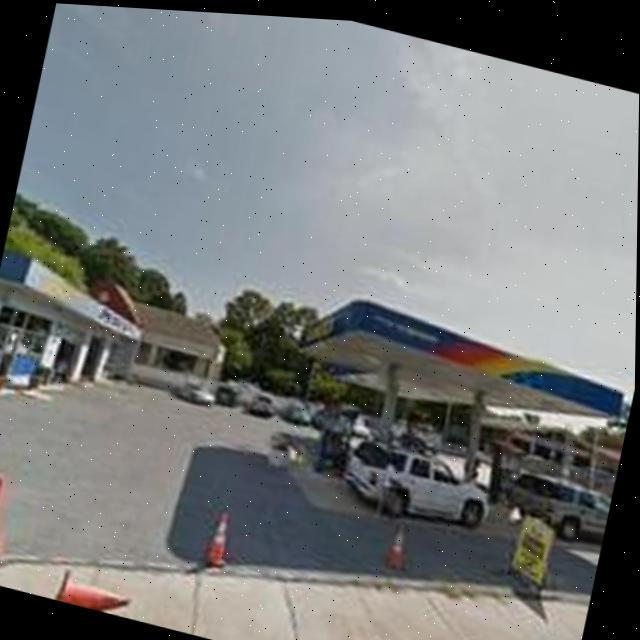building: (0, 248, 233, 461)
